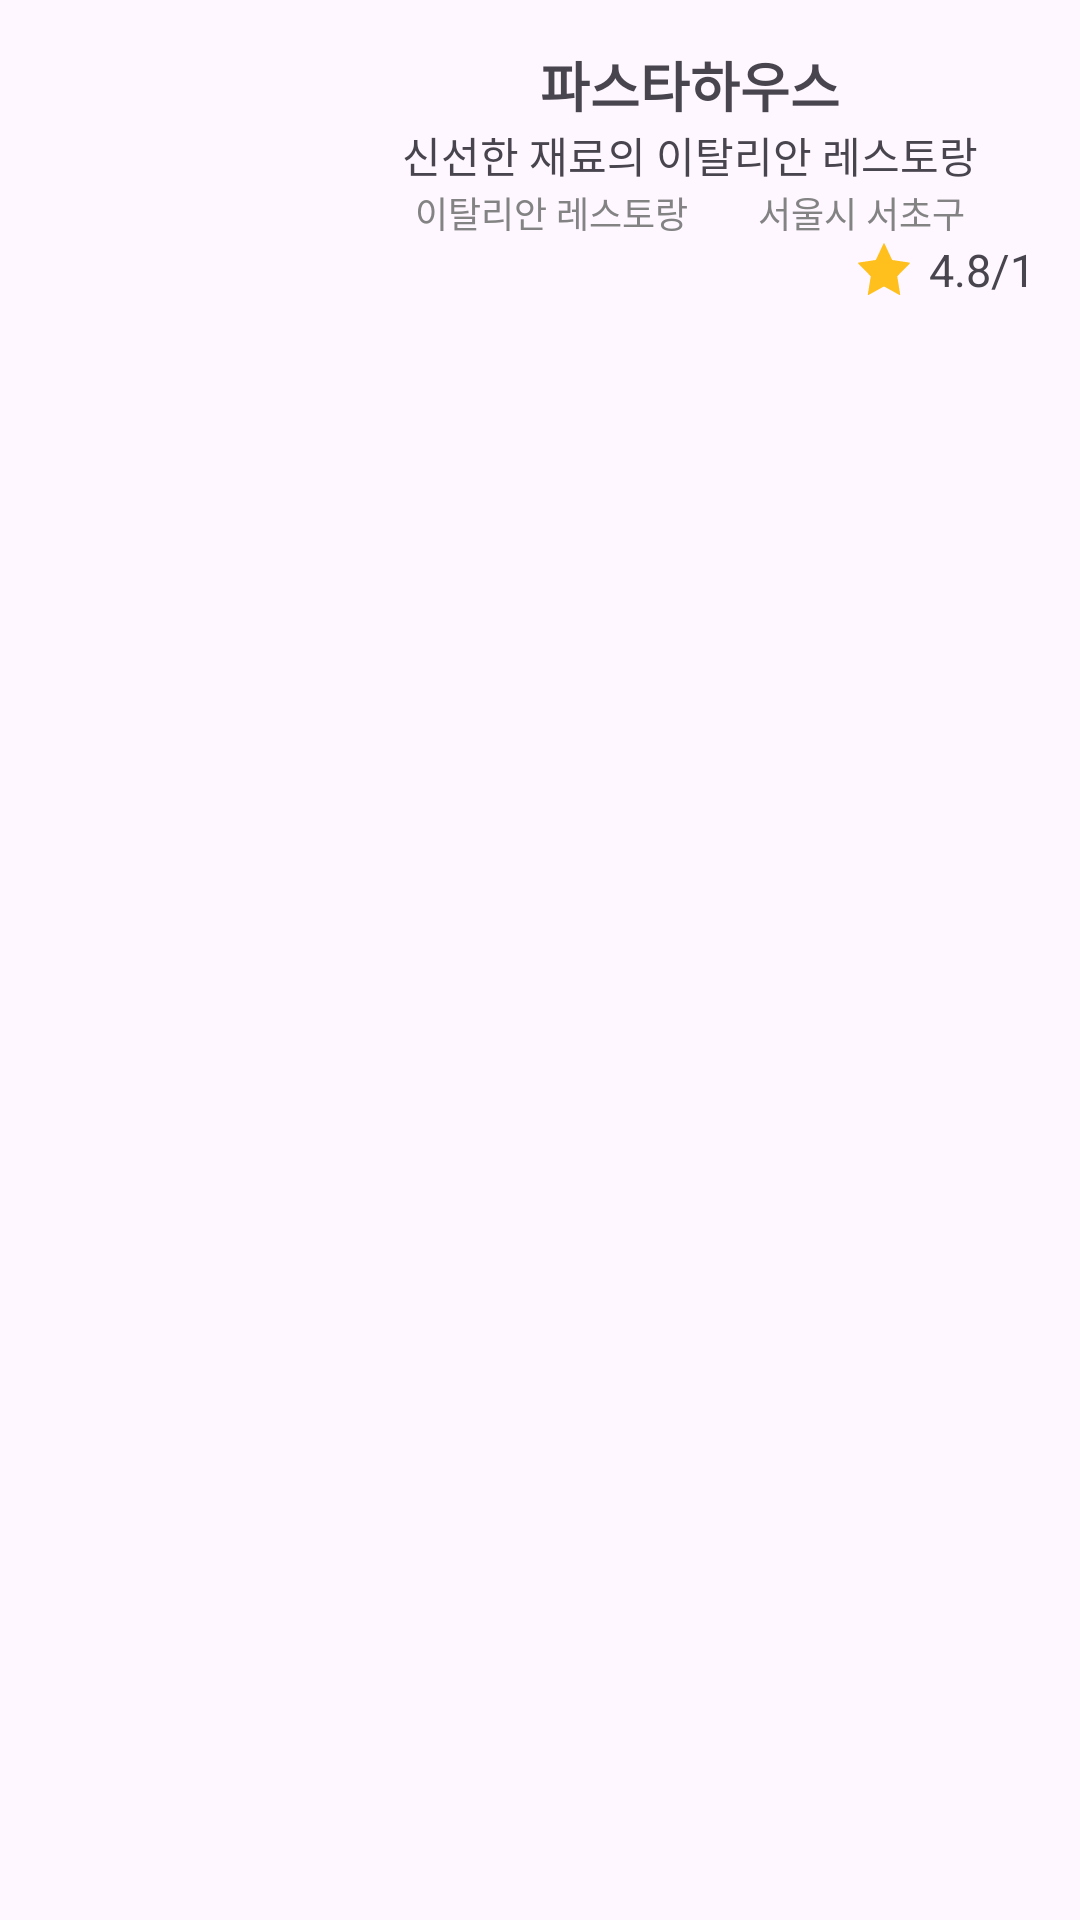

Icon click points for this 1080x1920 phone screenshot, format (x=x, y=y):
star: (x=884, y=269)
